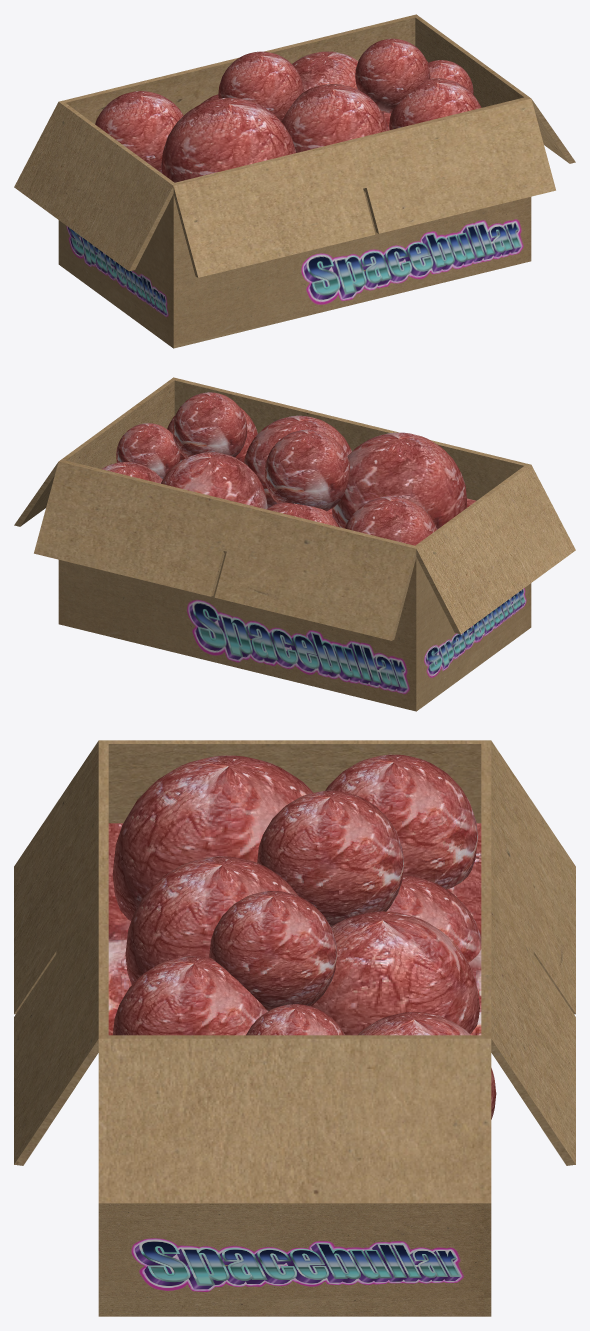
Rendered from MeetBalls.fbx.
3 renders of one model, top to bottom at view 1: azimuth 30°, elevation 25°; view 2: azimuth 150°, elevation 25°; view 3: azimuth 270°, elevation 25°, orthographic. The views are drawn at different scales.
Parts seen in each view (by area): view 1: Meat; view 2: Meat; view 3: Meat.
Boxes of the visible parts, <box> form: Meat: <box>14,14,575,348</box>; Meat: <box>14,377,575,711</box>; Meat: <box>14,740,575,1316</box>.
Size of the model in its own units: 1.25 by 0.8004 by 0.5509.
